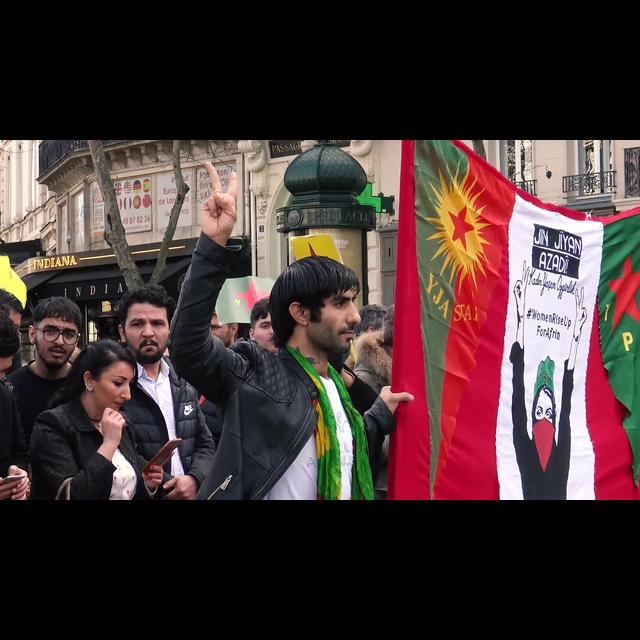ZI: (189, 156, 249, 256)
